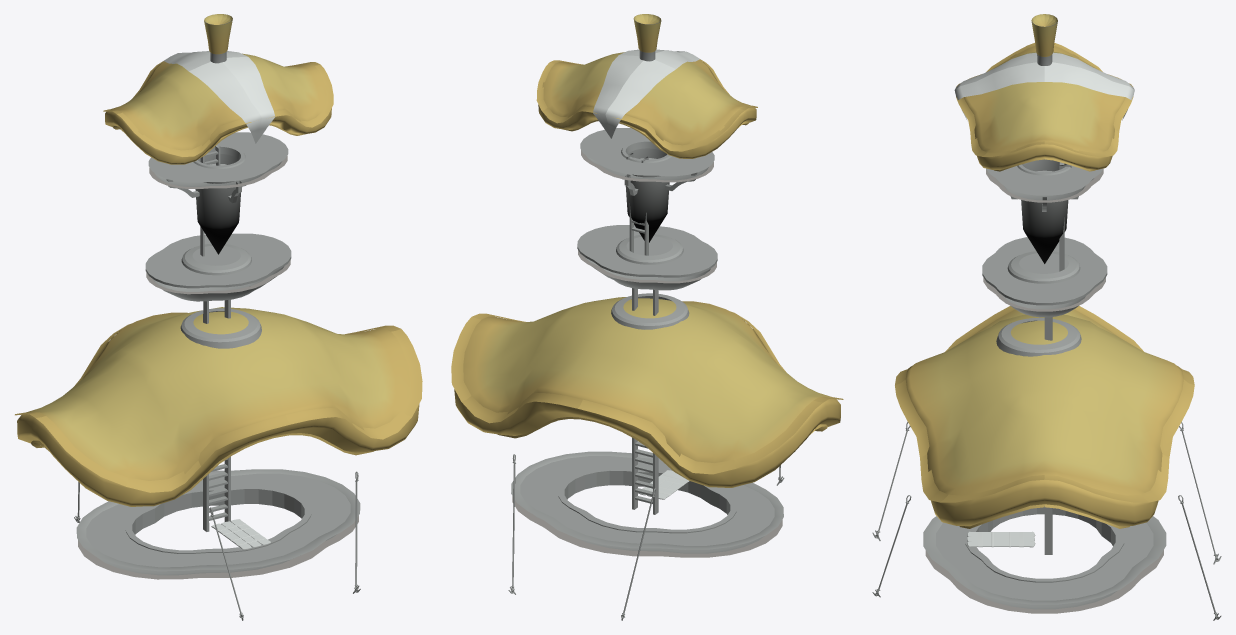
3 renders of one model, left to right at view 1: azimuth 30°, elevation 25°; view 2: azimuth 150°, elevation 25°; view 3: azimuth 270°, elevation 25°, orthographic. The views are drawn at different scales.
Visible parts, largest first — view 1: G:\FFXIV-MapTools\exports\y6f2\bg\ex5\02_ykt_y6\fld\y6f2\bgp (×10); view 2: G:\FFXIV-MapTools\exports\y6f2\bg\ex5\02_ykt_y6\fld\y6f2\bgp (×9); view 3: G:\FFXIV-MapTools\exports\y6f2\bg\ex5\02_ykt_y6\fld\y6f2\bgp (×10).
Boxes of the visible parts, x1,y1,x2,y2 form: G:\FFXIV-MapTools\exports\y6f2\bg\ex5\02_ykt_y6\fld\y6f2\bgp (×10): (15, 14, 422, 618); G:\FFXIV-MapTools\exports\y6f2\bg\ex5\02_ykt_y6\fld\y6f2\bgp (×9): (451, 14, 843, 618); G:\FFXIV-MapTools\exports\y6f2\bg\ex5\02_ykt_y6\fld\y6f2\bgp (×10): (876, 14, 1217, 617).
Size of the model in its own units: 23.72 by 34.21 by 18.93.
